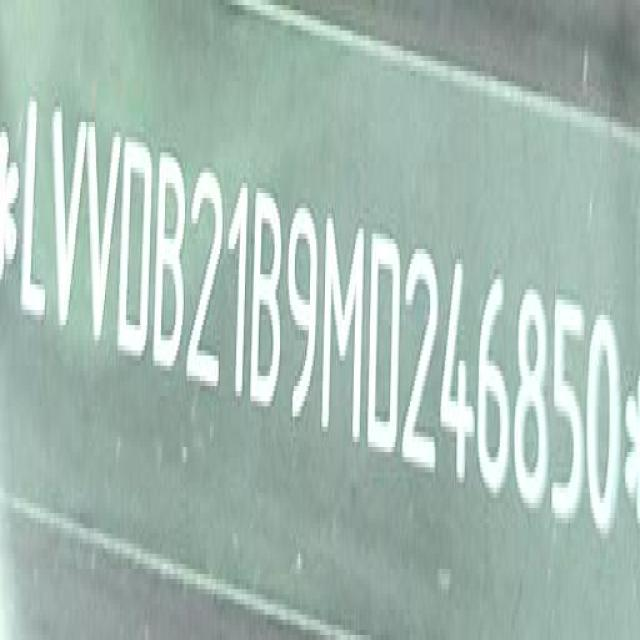0: (589, 307, 623, 542)
1: (228, 175, 248, 402)
2: (405, 246, 440, 481), (191, 163, 225, 392)
4: (442, 263, 477, 493)
5: (550, 292, 585, 530)
6: (478, 266, 512, 500)
8: (515, 284, 549, 516)
9: (288, 205, 322, 431)
B: (253, 185, 285, 414), (155, 148, 187, 376)
D: (118, 130, 156, 360), (368, 225, 404, 462)
L: (21, 102, 50, 325)
M: (321, 210, 366, 448)
V: (48, 103, 86, 341), (88, 116, 121, 350)
